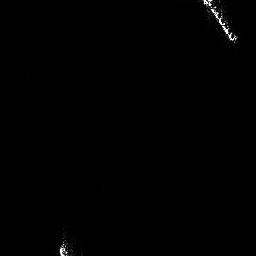ship: (199, 1, 240, 43)
